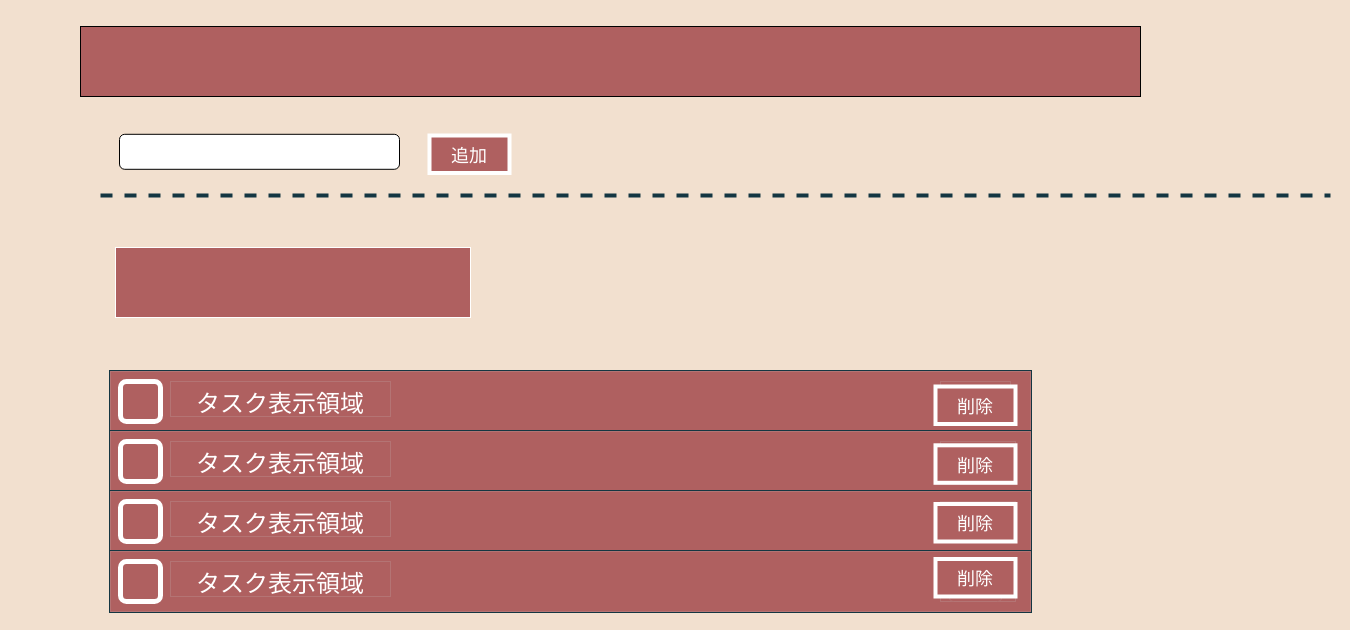
Image size: 1350x630. Some labels were removed from this diagram. Here are the shapes that lost their labels. From the top down, the box of each, then its label:
(80, 26, 1140, 96): To-Do タスク
(118, 133, 400, 169): タスク入力欄
(114, 246, 470, 318): タスク一覧
